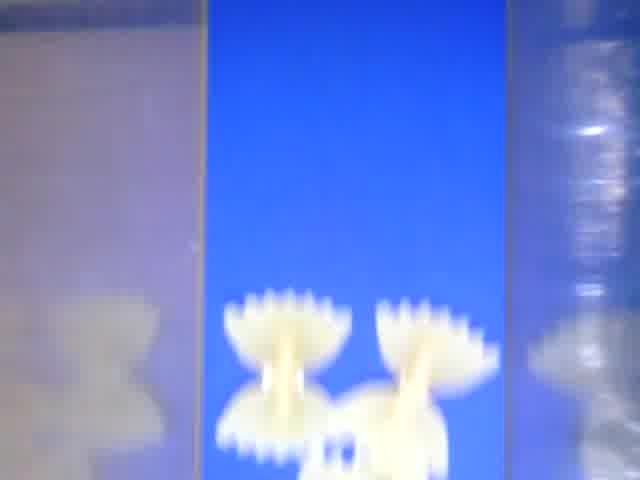farfalle: (335, 298, 505, 480), (216, 290, 357, 459)
